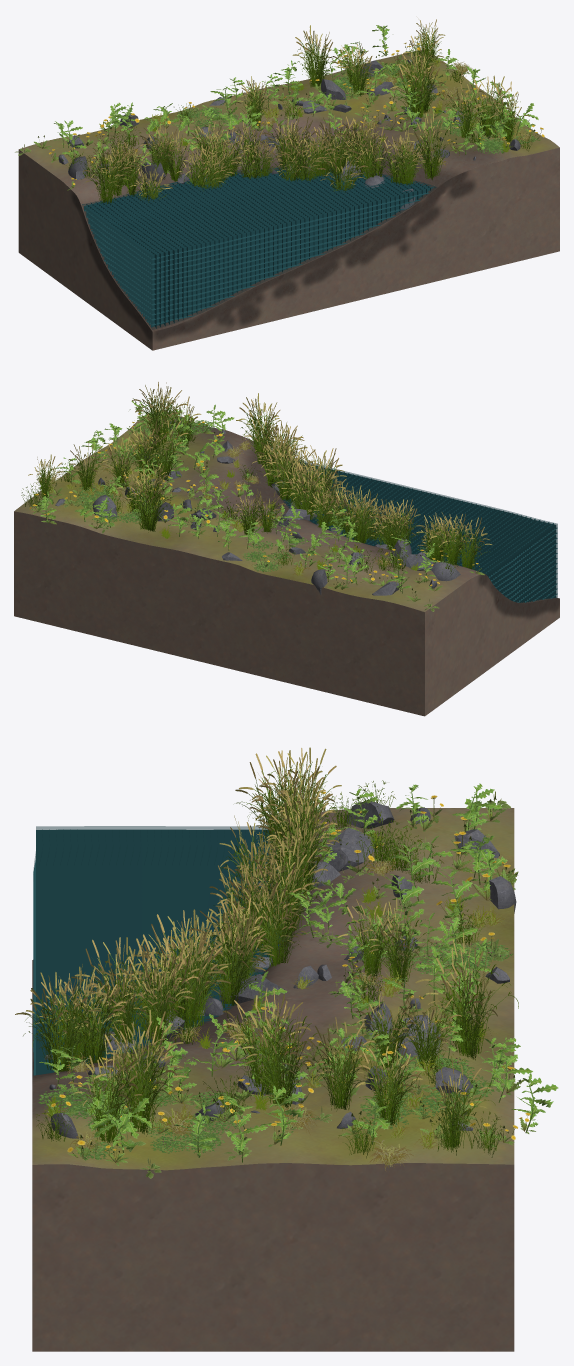
The model's file is realistic_water_and_plants.glb.
3 renders of one model, top to bottom at view 1: azimuth 30°, elevation 25°; view 2: azimuth 150°, elevation 25°; view 3: azimuth 270°, elevation 25°, orthographic. The views are drawn at different scales.
Visible parts, largest first — view 1: ground, water, Grass tall high017, Grass tall high006, Grass tall high.009, Grass tall high.012, Grass tall high.014, Grass tall high.031, Grass tall high019, Grass tall high.010, Grass tall high.043, Grass tall high016 (+35 smaller); view 2: ground, water, Grass tall high006, Grass tall high.012, Grass tall high004, Grass tall high017, Grass tall high.009, Grass tall high.015, Grass tall high.014, Grass tall high.033, Grass tall high.007, Grass tall high.008 (+21 smaller); view 3: ground, water, Grass tall high017, Grass tall high006, Grass tall high.012, Grass tall high004, Grass tall high.009, Grass tall high.008, Grass tall high.011, Grass tall high.007, Grass tall high.039, Grass tall high.033 (+42 smaller).
Boxes of the visible parts, x1=… form: ground: x1=18, y1=50, x2=559, y2=350; water: x1=82, y1=167, x2=436, y2=329; Grass tall high017: x1=406, y1=111, x2=459, y2=180; Grass tall high006: x1=292, y1=25, x2=338, y2=87; Grass tall high.009: x1=389, y1=57, x2=443, y2=119; Grass tall high.012: x1=462, y1=75, x2=514, y2=137; Grass tall high.014: x1=81, y1=148, x2=134, y2=203; Grass tall high.031: x1=281, y1=129, x2=334, y2=181; Grass tall high019: x1=183, y1=142, x2=233, y2=191; Grass tall high.010: x1=446, y1=81, x2=491, y2=137; Grass tall high.043: x1=315, y1=145, x2=370, y2=192; Grass tall high016: x1=384, y1=135, x2=425, y2=185; ground: x1=14, y1=415, x2=559, y2=716; water: x1=271, y1=459, x2=557, y2=602; Grass tall high006: x1=123, y1=467, x2=175, y2=532; Grass tall high.012: x1=135, y1=382, x2=186, y2=446; Grass tall high004: x1=122, y1=418, x2=172, y2=479; Grass tall high017: x1=236, y1=393, x2=281, y2=454; Grass tall high.009: x1=141, y1=416, x2=188, y2=480; Grass tall high.015: x1=430, y1=512, x2=474, y2=565; Grass tall high.014: x1=442, y1=514, x2=492, y2=569; Grass tall high.033: x1=263, y1=447, x2=305, y2=500; Grass tall high.007: x1=68, y1=441, x2=107, y2=490; Grass tall high.008: x1=100, y1=436, x2=144, y2=487; ground: x1=32, y1=808, x2=514, y2=1351; water: x1=33, y1=826, x2=282, y2=1075; Grass tall high017: x1=15, y1=964, x2=108, y2=1072; Grass tall high006: x1=415, y1=932, x2=518, y2=1059; Grass tall high.012: x1=93, y1=1023, x2=187, y2=1136; Grass tall high004: x1=230, y1=987, x2=328, y2=1108; Grass tall high.009: x1=218, y1=986, x2=314, y2=1096; Grass tall high.008: x1=303, y1=1017, x2=379, y2=1111; Grass tall high.011: x1=67, y1=1035, x2=142, y2=1144; Grass tall high.007: x1=355, y1=1040, x2=423, y2=1125; Grass tall high.039: x1=89, y1=940, x2=175, y2=1045; Grass tall high.033: x1=144, y1=929, x2=230, y2=1029.
Size of what is drawn, in the model's own units: 8.39 by 3.14 by 5.14.
10 materials, 8 textured.
